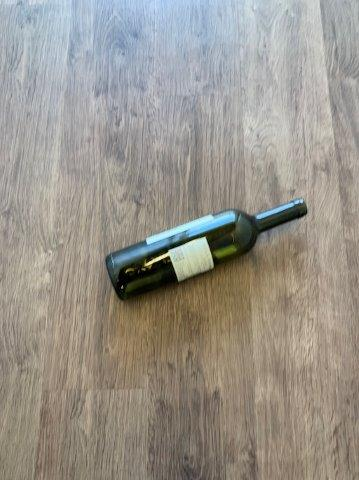botolkaca: (104, 197, 309, 300)
